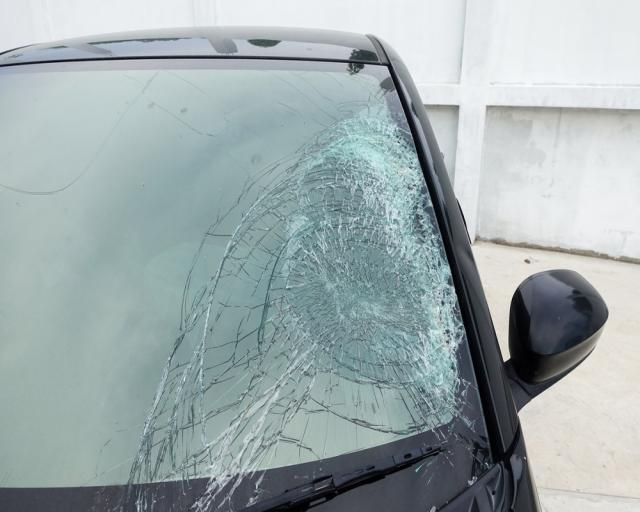glass shatter: (0, 56, 494, 512)
